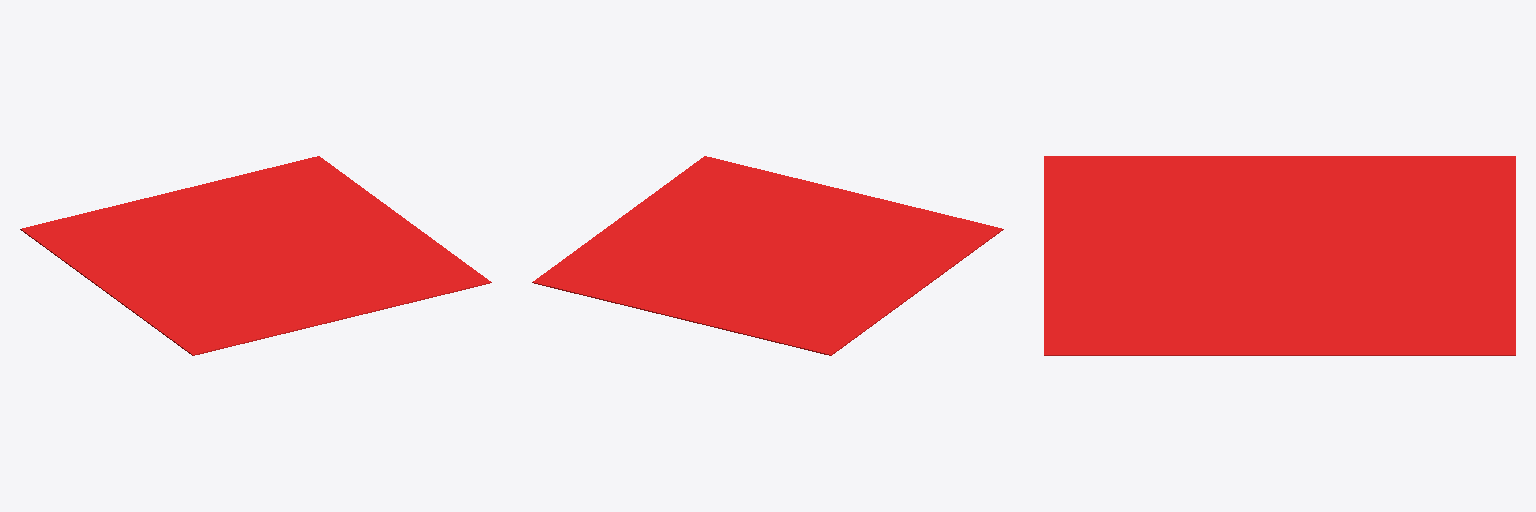
URDF robot description (white_plate):
<?xml version="1.0" encoding="UTF-8"?>
<robot name="white_plate">
  <link name="plate">
    <inertial>
      <origin rpy="0 0 0" xyz="0 0 0"/>
      <mass value="1.0"/>
       <inertia ixx="0.0833" ixy="0.0" ixz="0.0" iyy="0.0833" iyz="0.0" izz="0.1667"/>
    </inertial>
    <visual>
      <origin rpy="0 0 0" xyz="0 0 0"/>
      <geometry>
        <box size="0.27 0.27 0.001" />
      </geometry>
      <material name="red">
        <color rgba="1 0.2 0.2 1"/>
      </material>
    </visual>
    <collision>
      <origin rpy="0 0 0" xyz="0 0 0"/>
      <geometry>
        <box size="0.27 0.27 0.001" />
      </geometry>
    </collision>
  </link>
  <gazebo reference="plate">
    <material>Gazebo/White</material>
  </gazebo>
</robot>
<!-- 
<?xml version="1.0" encoding="UTF-8"?>

<robot name="white_sheet">
    <link name="sheet_link">
        <inertial>
            <mass value="1.0" />
            <inertia ixx="0.001" ixy="0.0" ixz="0.0" iyy="0.001" iyz="0.0" izz="0.001" />
        </inertial>
        <visual>
            <geometry>
                <box size="0.2 0.2 0.01" />
            </geometry>
            <material>
                <color rgba="1 1 1 1" />
            </material>
        </visual>
        <collision>
            <geometry>
                <box size="0.2 0.2 0.01" />
            </geometry>
        </collision>
    </link>

    

</robot> -->

--- What the picture shows (computed from the rendered views, not written in the file) ---
The picture shows the robot from 3 angles, left to right: view 1: azimuth 30°, elevation 25°; view 2: azimuth 150°, elevation 25°; view 3: azimuth 270°, elevation 25°; orthographic projection.
Robot: white_plate — 1 links, 0 joints (none); root link plate; default pose: all joints at 0.
Links seen in each view (by area): view 1: plate; view 2: plate; view 3: plate.
Link boxes in pixels (<box>): plate: <box>20,156,491,355</box>; plate: <box>532,156,1003,355</box>; plate: <box>1044,156,1515,355</box>.
Size in the robot's own frame: 0.27 by 0.27 by 0.001 metres.
Geometry: primitives only (box / cylinder / sphere), no mesh files.
